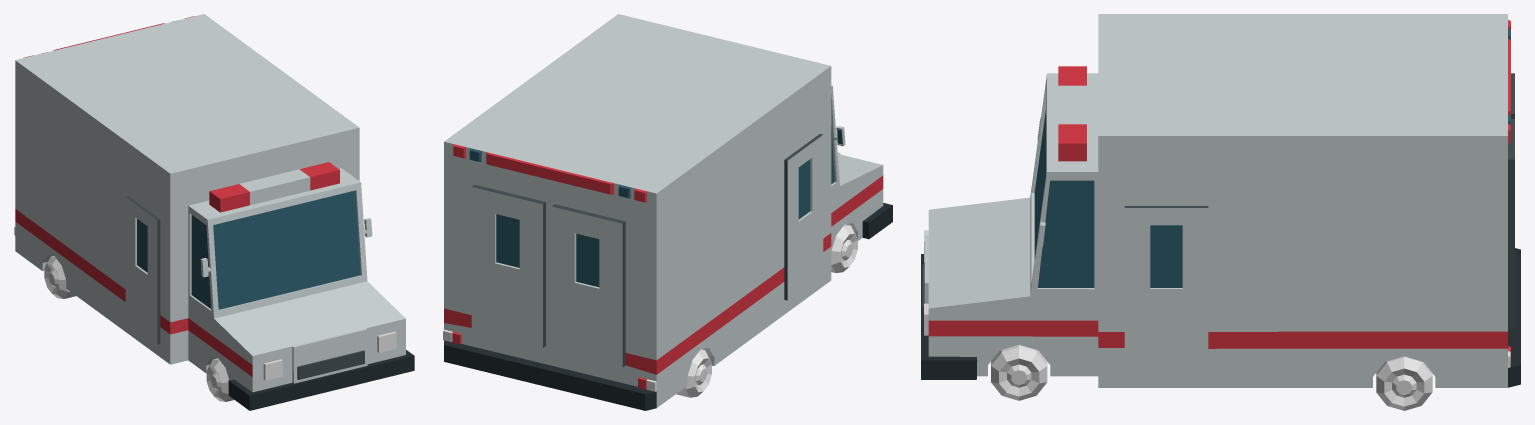
Rendered from emergency-ambulance.glb.
3 renders of one model, left to right at view 1: azimuth 30°, elevation 25°; view 2: azimuth 150°, elevation 25°; view 3: azimuth 270°, elevation 25°, orthographic. The views are drawn at different scales.
Parts seen in each view (by area): view 1: Ambulance.001, FrontWheels.001, BackWheels.001; view 2: Ambulance.001, FrontWheels.001, BackWheels.001; view 3: Ambulance.001, FrontWheels.001, BackWheels.001.
Boxes of the visible parts, x1=… form: Ambulance.001: x1=14, y1=14, x2=414, y2=410; FrontWheels.001: x1=206, y1=358, x2=234, y2=401; BackWheels.001: x1=44, y1=256, x2=75, y2=298; Ambulance.001: x1=443, y1=14, x2=892, y2=410; FrontWheels.001: x1=831, y1=224, x2=857, y2=272; BackWheels.001: x1=676, y1=349, x2=711, y2=397; Ambulance.001: x1=921, y1=14, x2=1520, y2=387; FrontWheels.001: x1=991, y1=345, x2=1047, y2=400; BackWheels.001: x1=1376, y1=356, x2=1432, y2=410.
Size of the model in its own units: 2.84 by 2.91 by 5.72.
